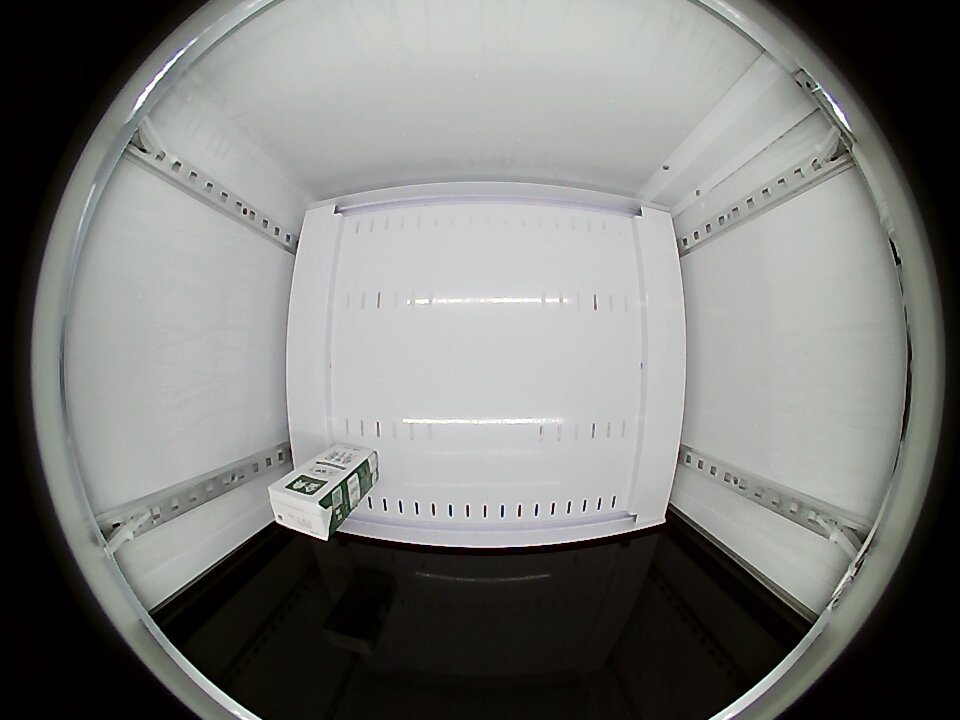jindian: (268, 474, 343, 542)
